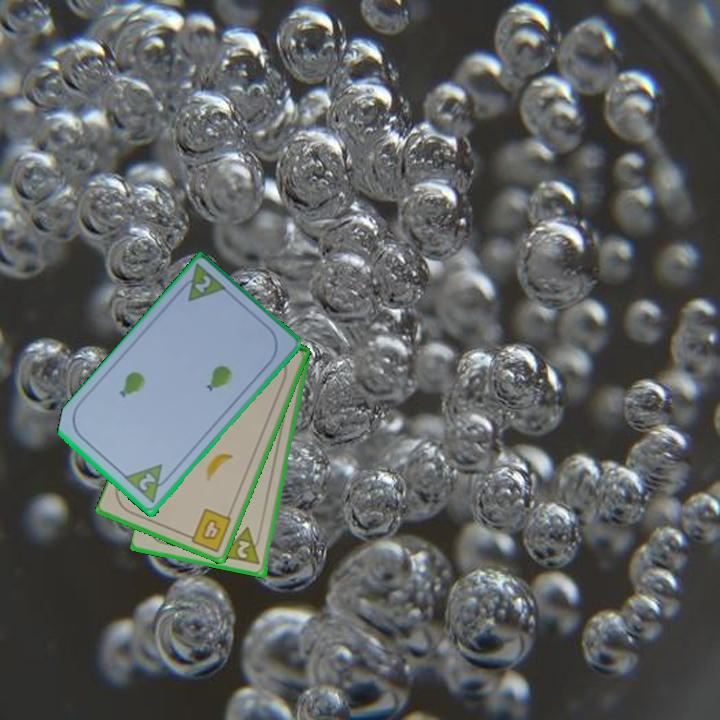2p: (122, 461, 175, 507), (191, 272, 214, 297), (234, 537, 254, 562)
4b: (182, 505, 235, 555)
